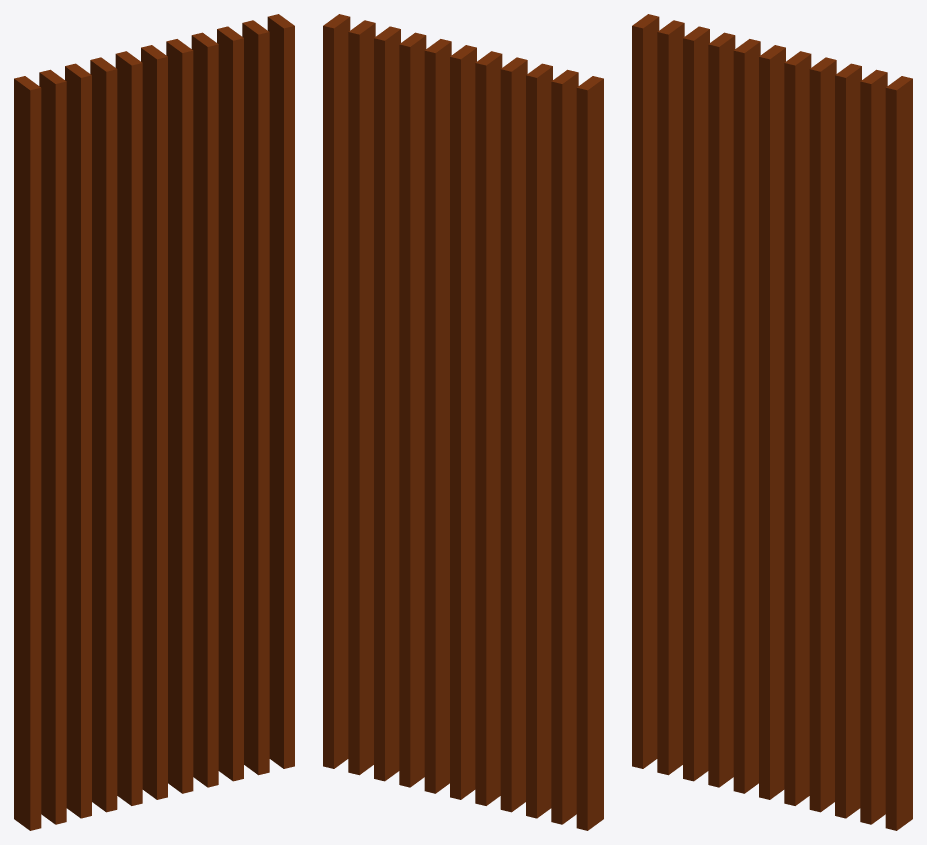
Rendered from SideWall.glb.
3 renders of one model, left to right at view 1: azimuth 30°, elevation 25°; view 2: azimuth 150°, elevation 25°; view 3: azimuth 330°, elevation 25°, orthographic.
Visible parts, largest first — view 1: Wall; view 2: Wall; view 3: Wall.
Boxes of the visible parts, <box> form: Wall: <box>14,14,294,830</box>; Wall: <box>323,14,603,830</box>; Wall: <box>632,14,912,830</box>.
Bounding box in the file's own units: 2.41 × 6.44 × 0.2539.
